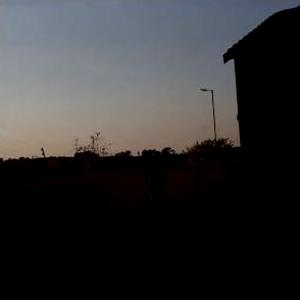follow: (126, 164, 190, 299)
